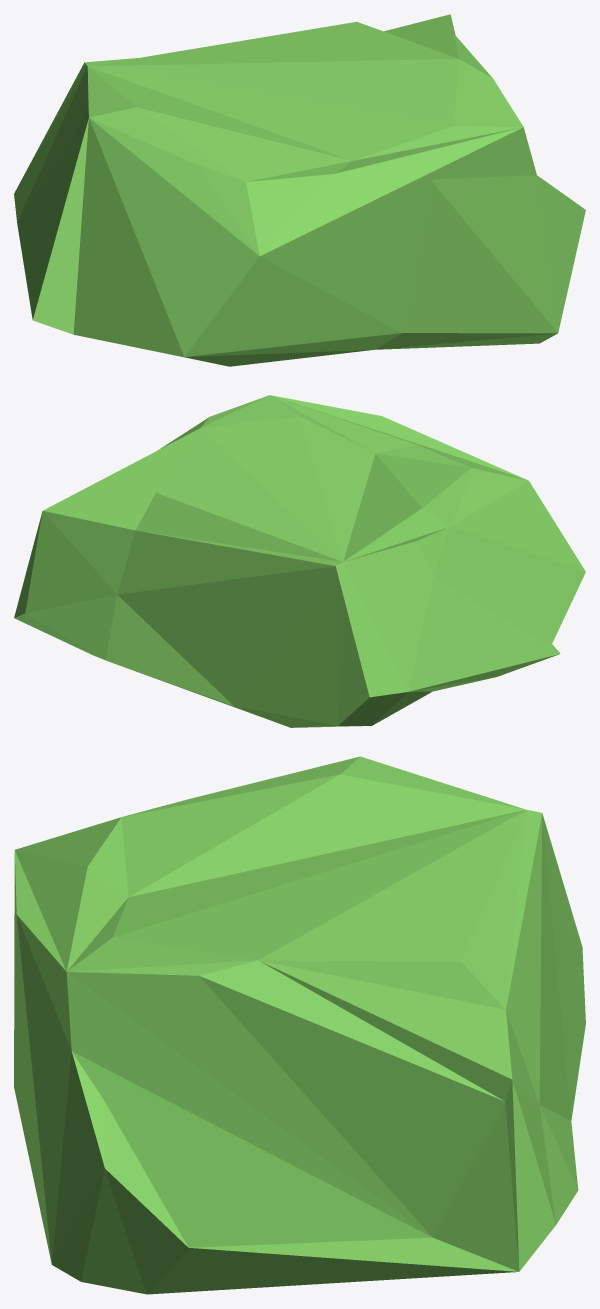
The model's file is SM_GLG_Rock_02_A.obj.
The picture shows the model from 3 angles, top to bottom: view 1: azimuth 30°, elevation 25°; view 2: azimuth 150°, elevation 25°; view 3: azimuth 270°, elevation 25°; orthographic projection. The views are drawn at different scales.
Parts seen in each view (by area): view 1: SM_GLG_Rock_02_A; view 2: SM_GLG_Rock_02_A; view 3: SM_GLG_Rock_02_A.
Boxes of the visible parts, bbox=[...] form: SM_GLG_Rock_02_A: bbox=[14, 14, 585, 366]; SM_GLG_Rock_02_A: bbox=[14, 395, 585, 727]; SM_GLG_Rock_02_A: bbox=[14, 756, 585, 1294].
Size of the model in its own units: 178 by 76.25 by 124.
